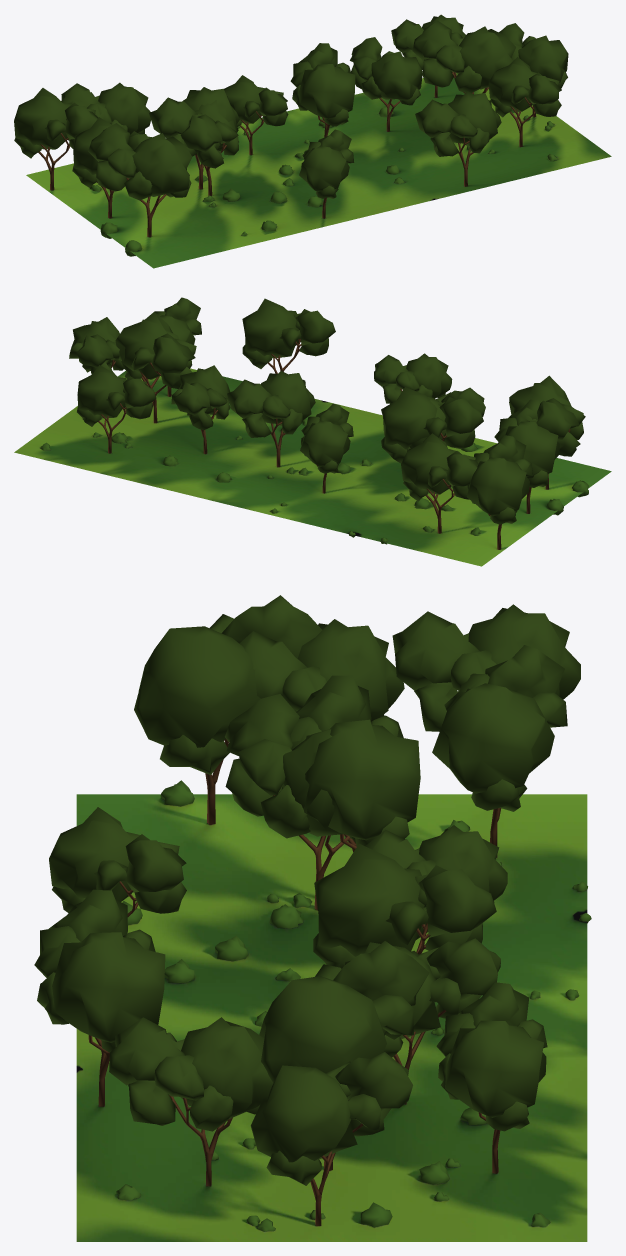
File: nature_right1.glb
The picture shows the model from 3 angles, top to bottom: view 1: azimuth 30°, elevation 25°; view 2: azimuth 150°, elevation 25°; view 3: azimuth 270°, elevation 25°; orthographic projection. The views are drawn at different scales.
Parts seen in each view (by area): view 1: Scatter.012, ground, Scatter.013; view 2: Scatter.012, ground, Scatter.013; view 3: Scatter.012, ground, Scatter.013.
Boxes of the visible parts, x1,y1,x2,y2 form: Scatter.012: (14,14,568,237); ground: (26,73,611,268); Scatter.013: (89,99,557,256); Scatter.012: (69,297,585,549); ground: (14,368,611,566); Scatter.013: (40,419,588,544); Scatter.012: (34,595,580,1226); ground: (76,794,587,1241); Scatter.013: (116,780,591,1231).
Size of the model in its own units: 60.51 by 12.95 by 29.49.
4 materials, 1 textured.
